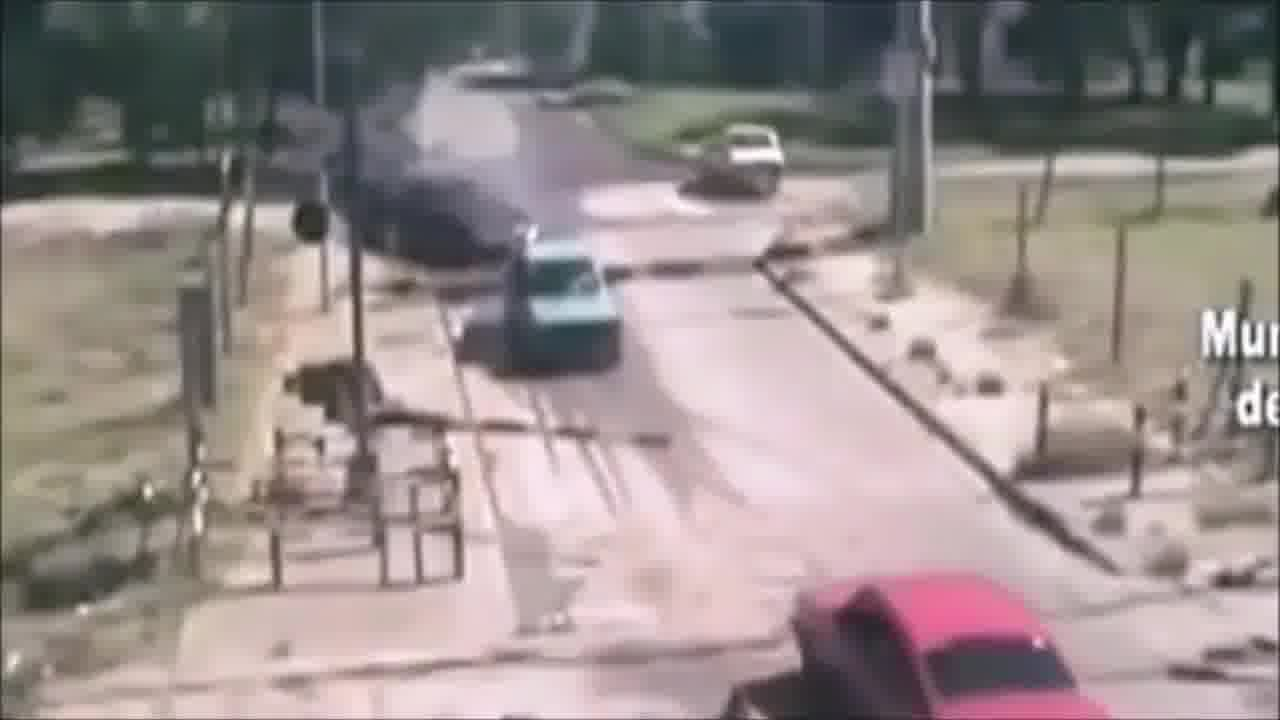crossing railway track: (729, 524, 1141, 720)
